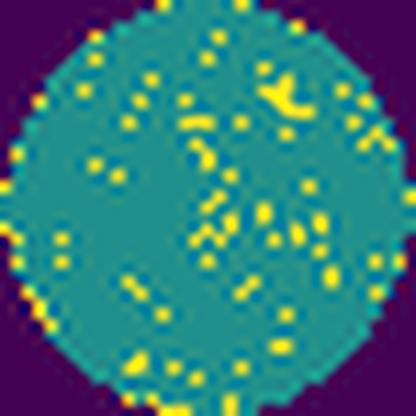Loc: (260, 73, 313, 120)
